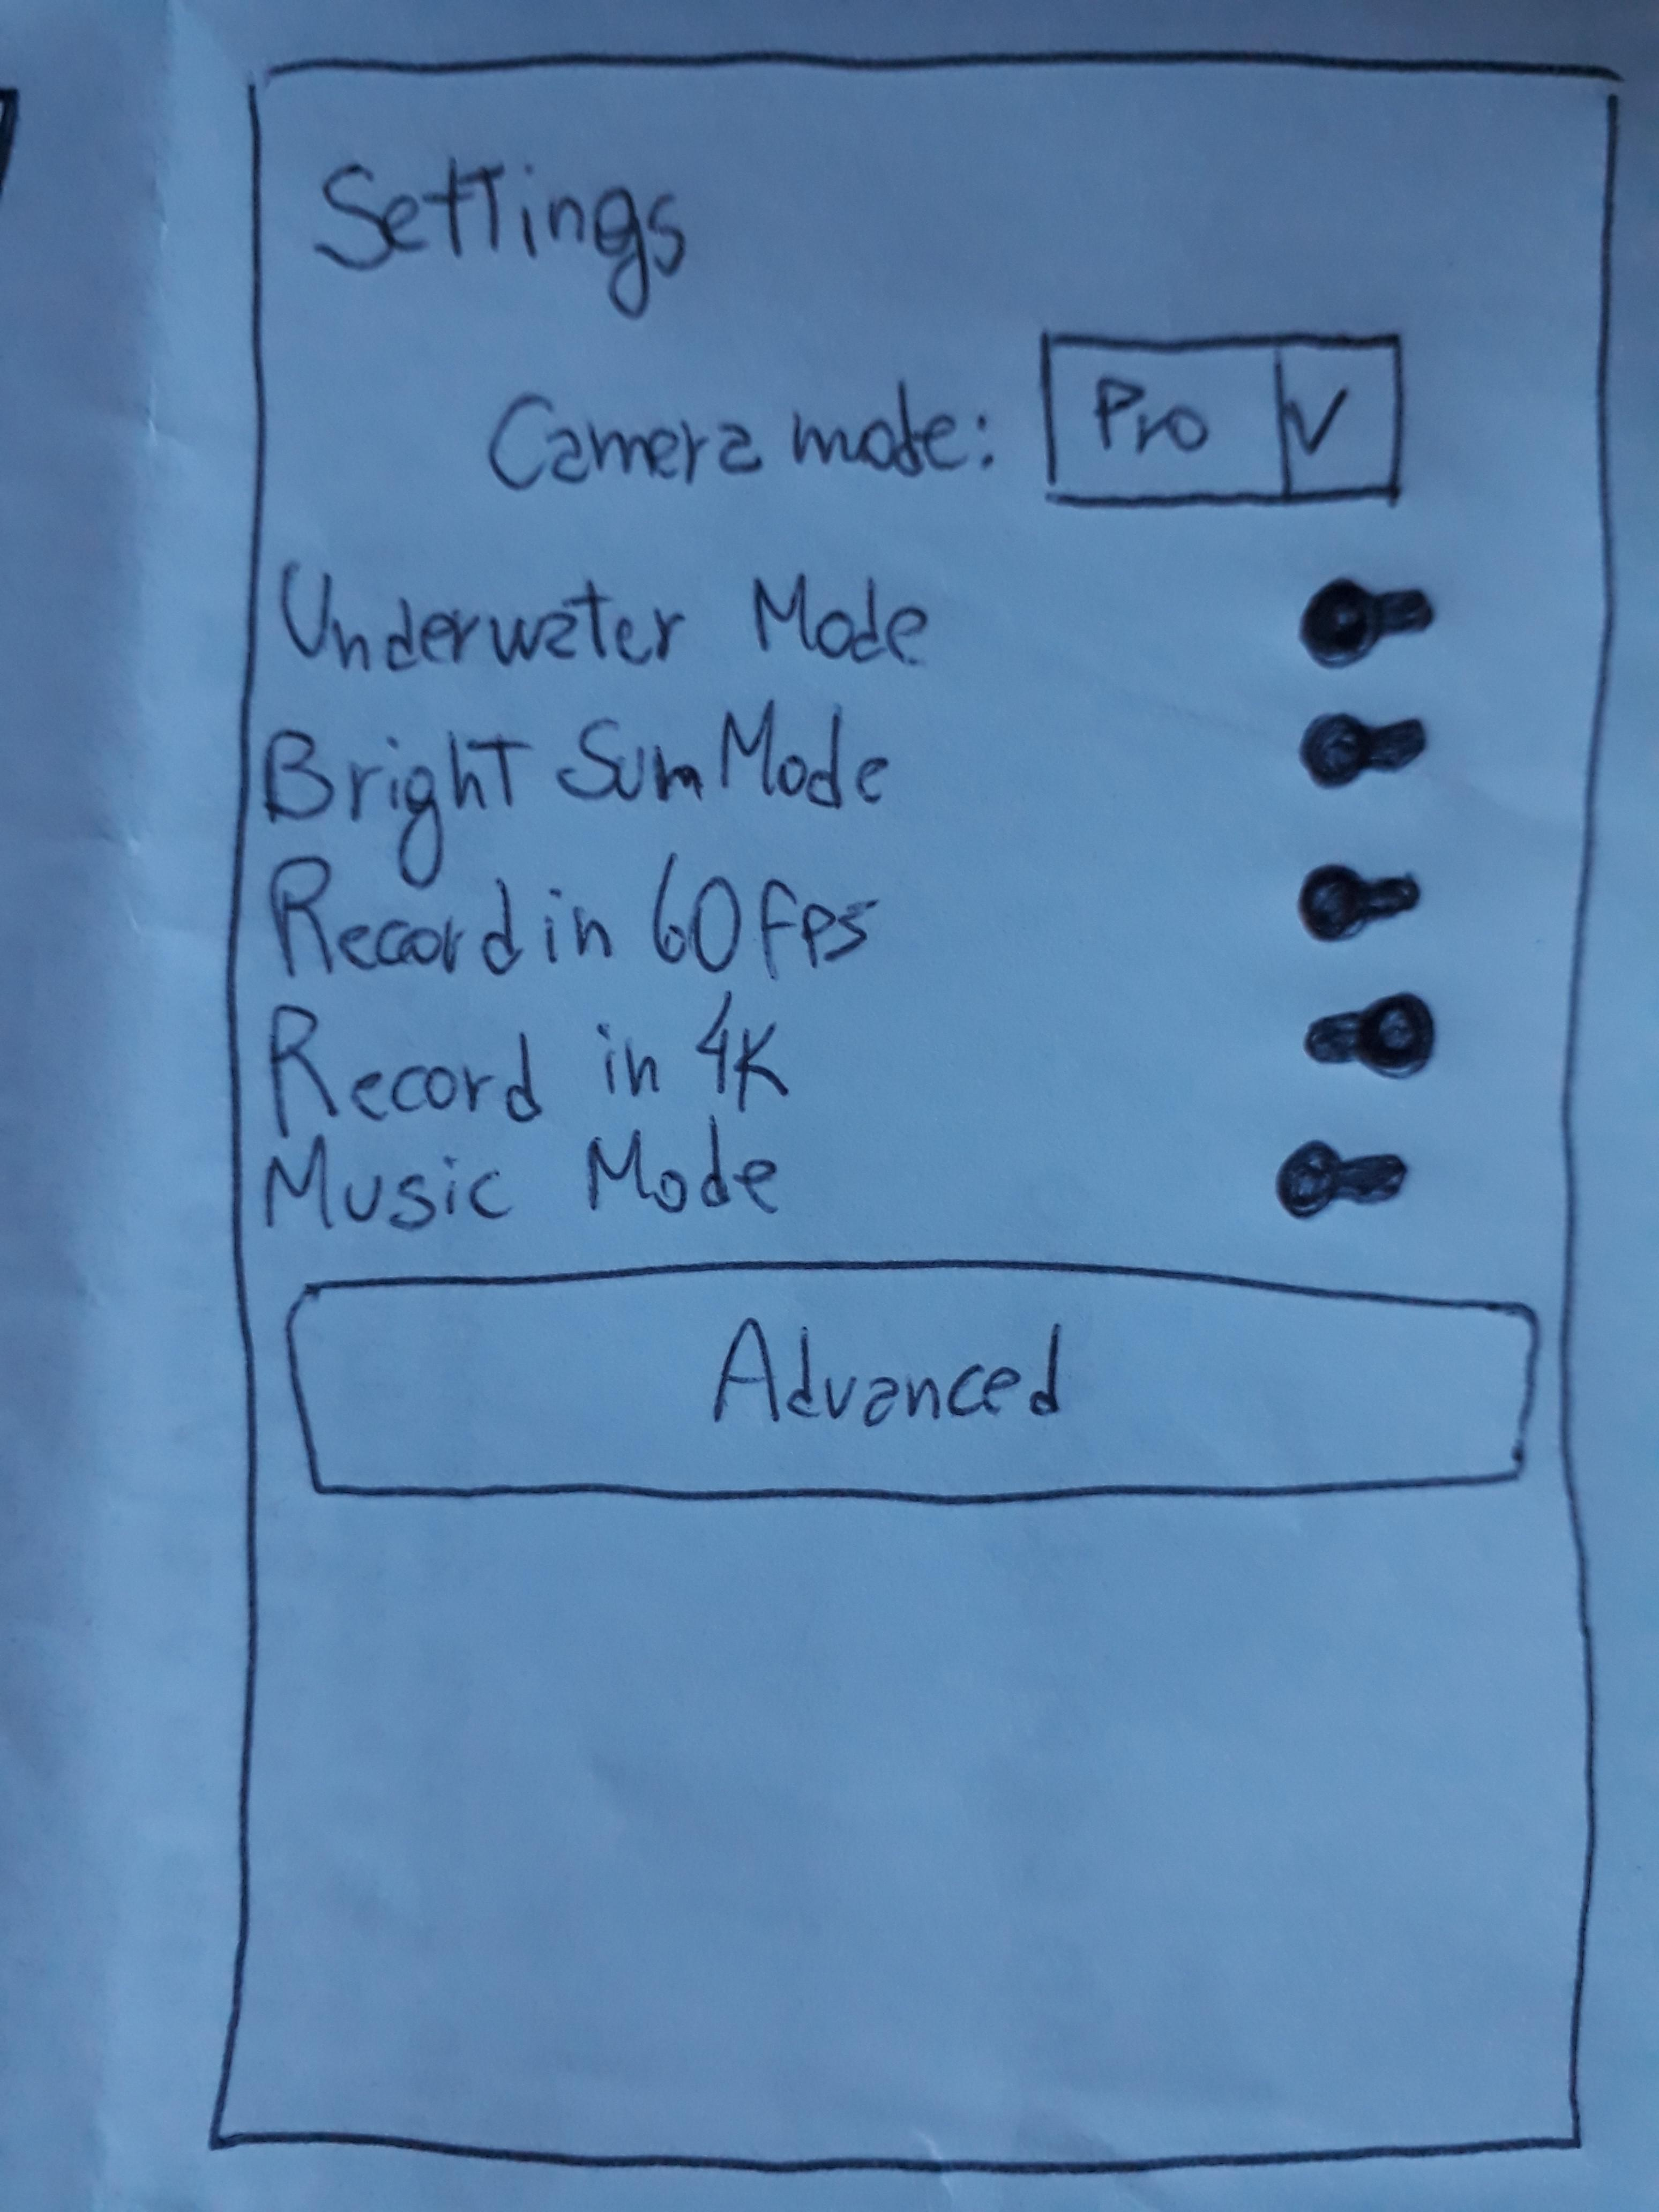Button: (284, 1264, 1540, 1500)
Label: (310, 155, 687, 324), (486, 374, 1000, 493)
ListPicker: (1040, 329, 1406, 505)
Screen: (206, 51, 1615, 2170)
Switch: (265, 986, 1434, 1141), (267, 853, 1424, 981), (261, 707, 1431, 833), (263, 1115, 1410, 1240), (277, 556, 1445, 676)
